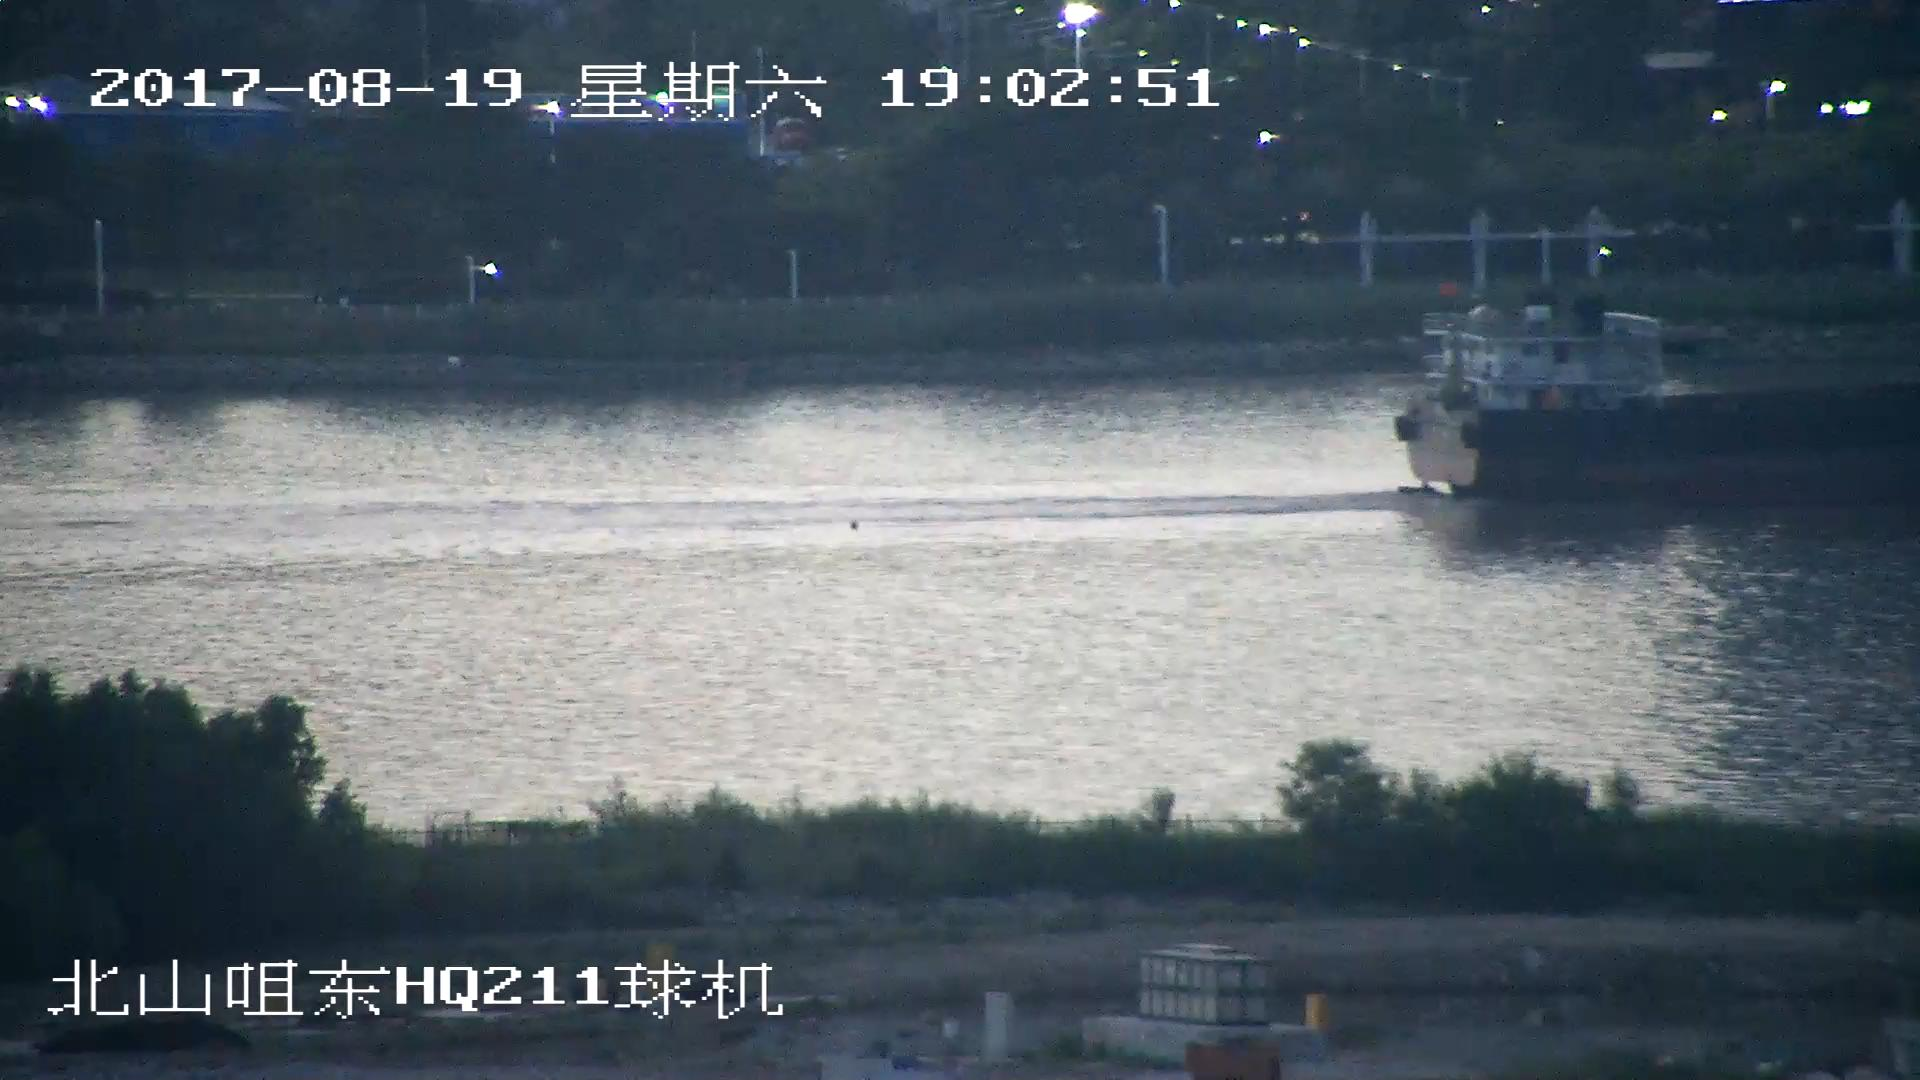general cargo ship: (1398, 305, 1920, 497)
